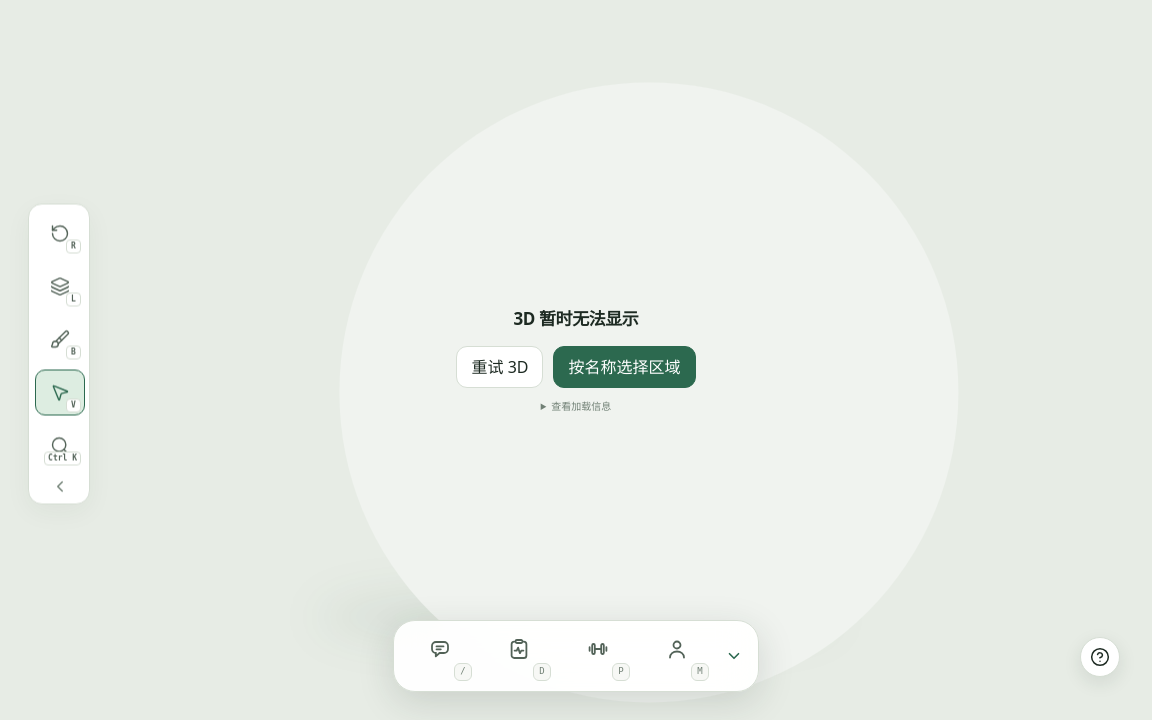
Test: body-first business windows › renders the user's V2 plan records with real stages and every plan in the picker
Click the button "P": point(598, 656) [562, 627, 634, 685]
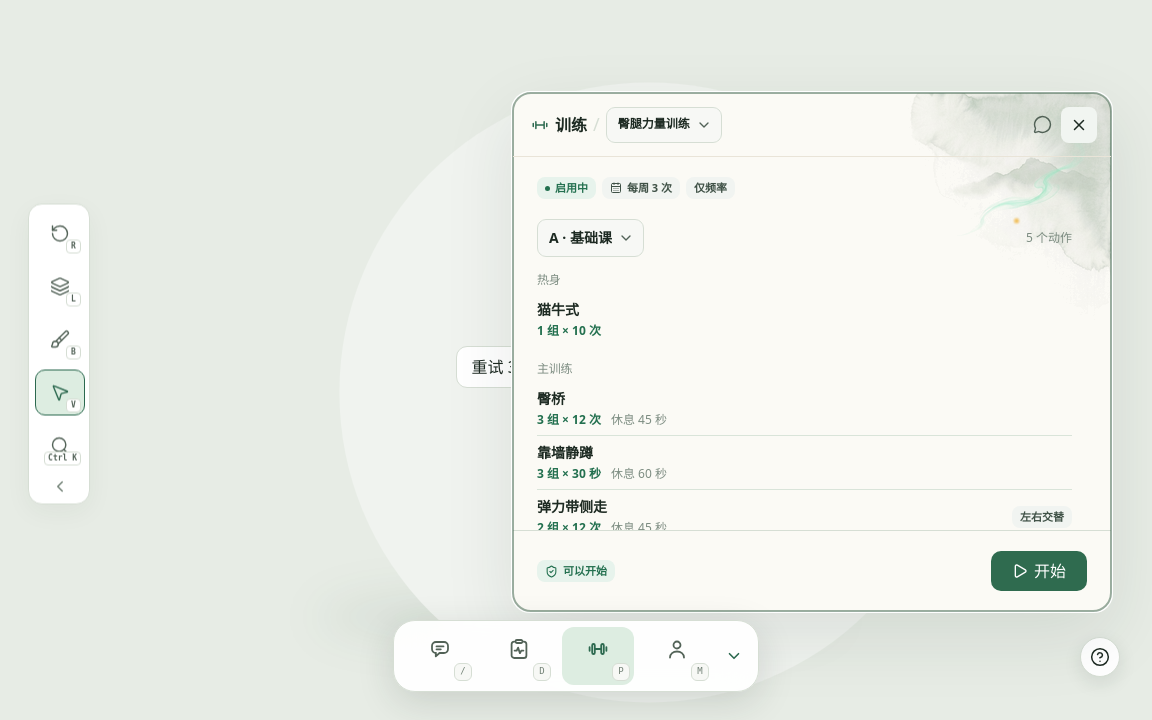
expect the text "弹力带侧走" is shown: met, box [537, 497, 607, 516]
expect the heading "热身" is shown: met, box [537, 271, 560, 288]
expect the heading "主训练" is shown: met, box [537, 360, 572, 377]
Click the dropdown named "选择训练计划": point(664, 124) [607, 108, 721, 142]
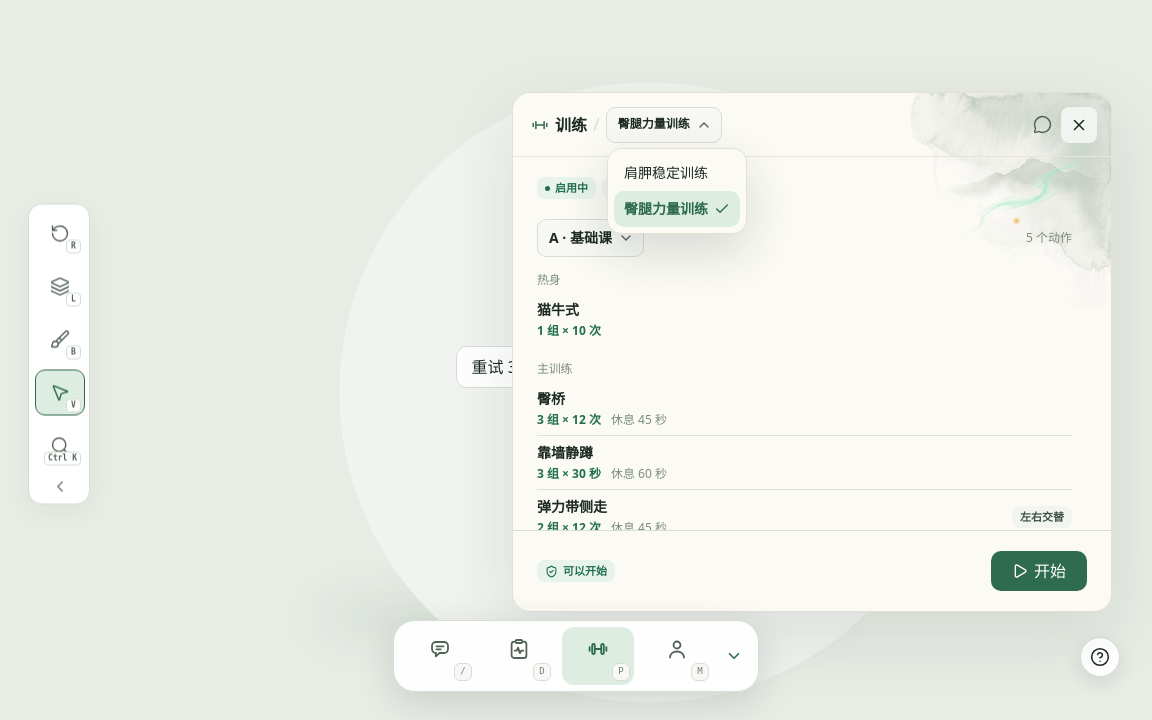
expect the text "肩胛稳定训练" is shown: met, box [624, 163, 708, 183]
Press Escape
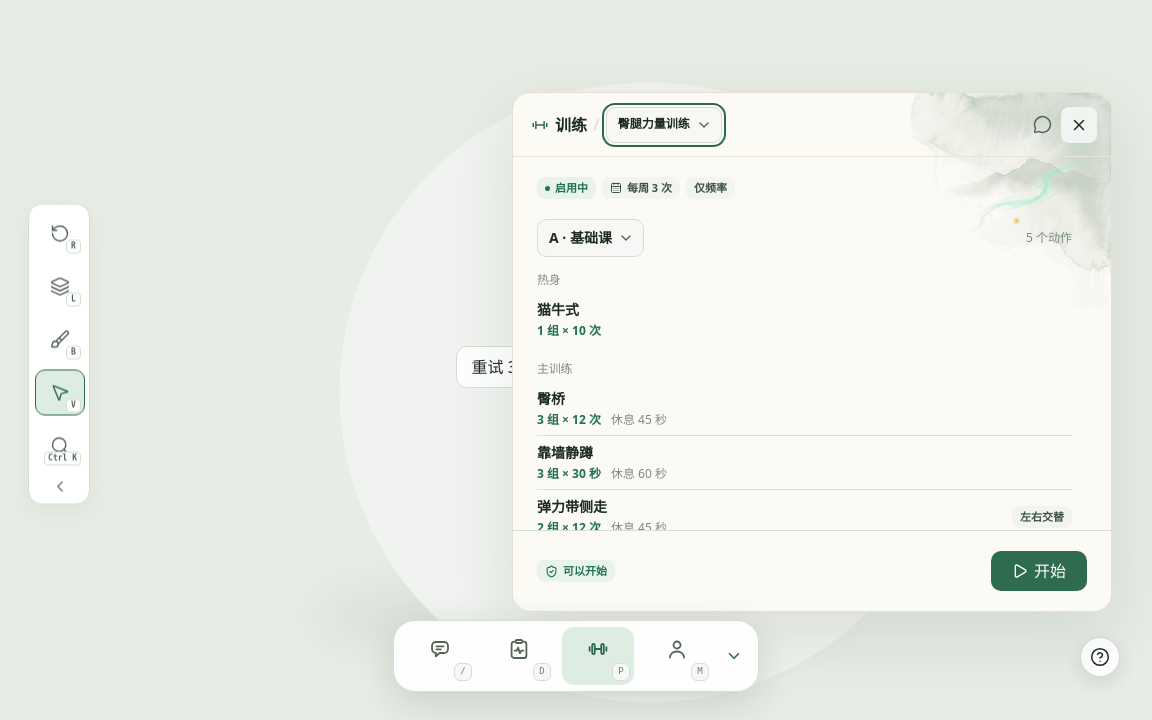
Click the dropdown named "选择训练计划": point(664, 124) [607, 108, 721, 142]
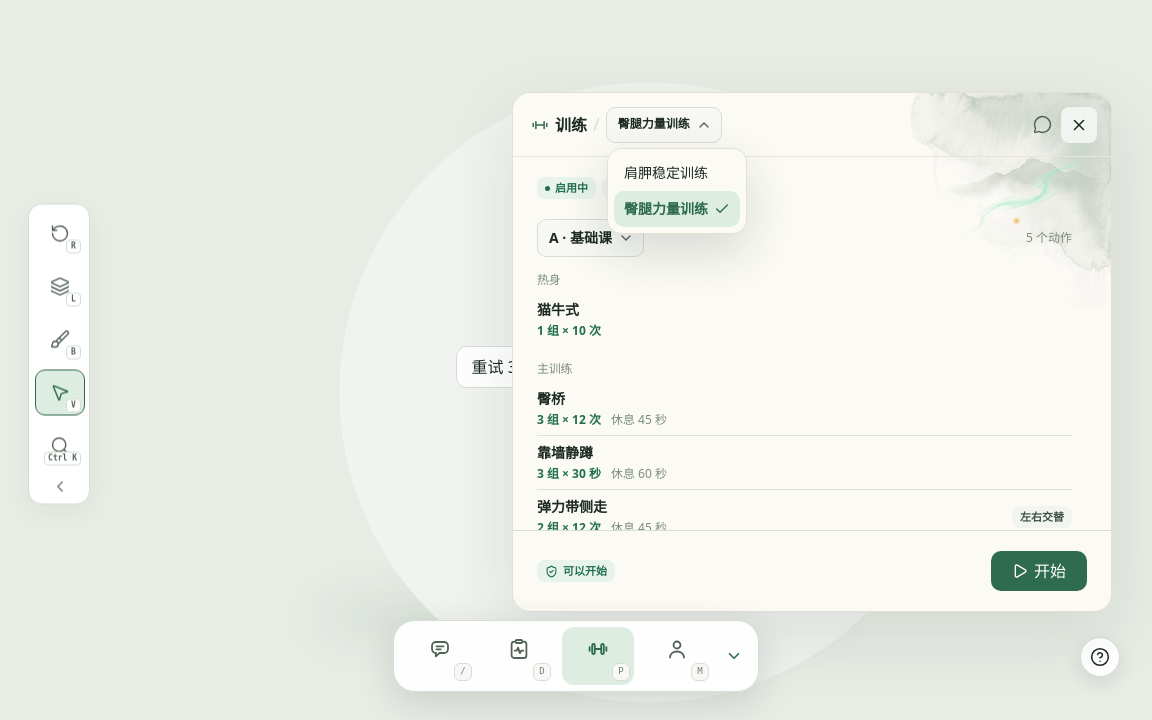
Click the option "肩胛稳定训练": point(666, 173) [624, 163, 708, 182]
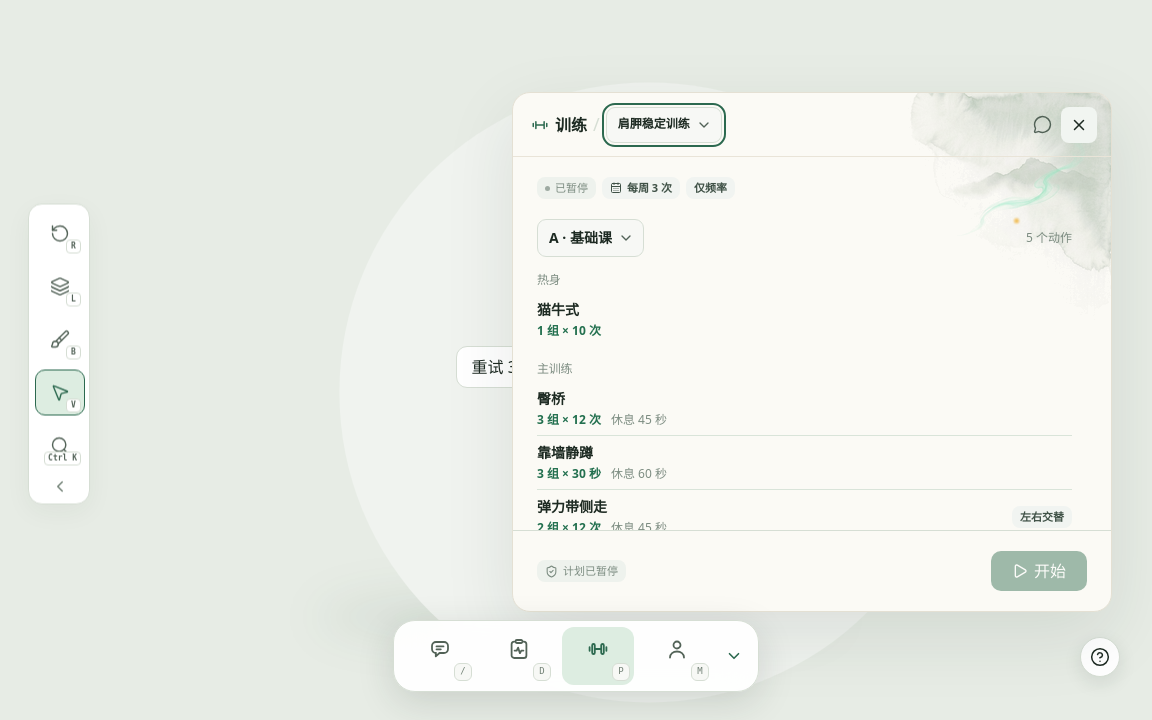
expect the element with test id "training-gate" reads "计划已暂停": met, box [563, 563, 618, 578]
expect the button with aria-label "开始训练" is disabled: met, box [991, 551, 1087, 591]
